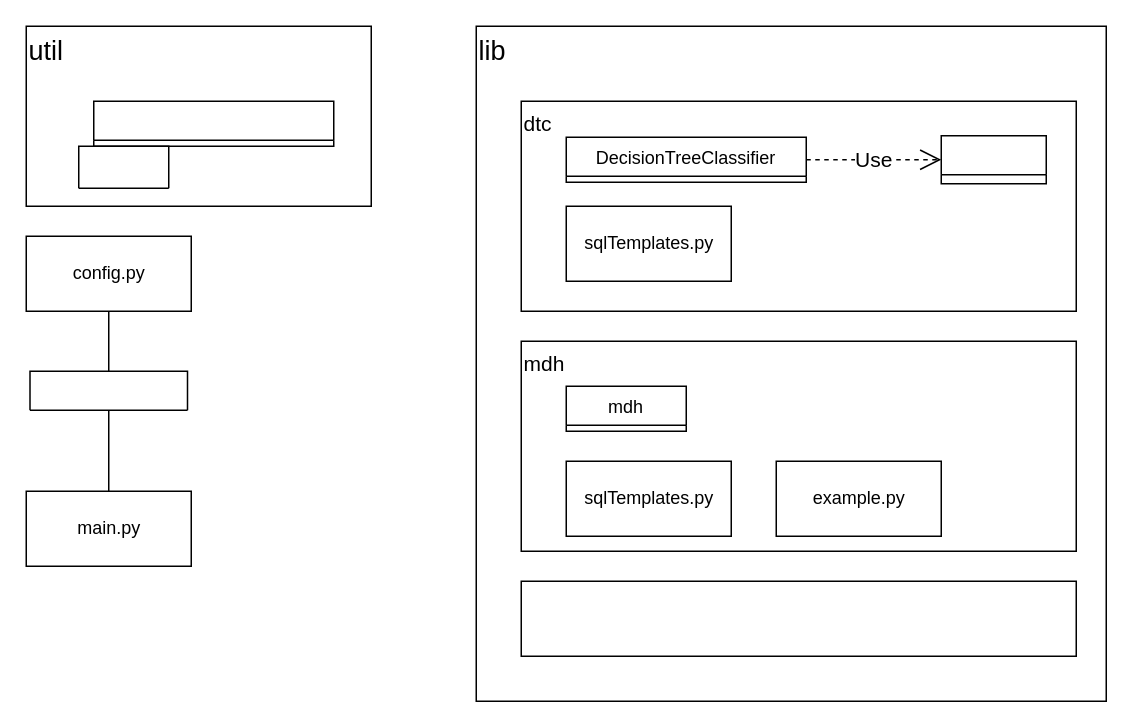
Image size: 1133x728. Some labels were removed from this diagram. The centre of each missing label's shape, as x and y in pixels:
"database_connection" goes at [213,123].
"linreg, kmeans..." goes at [798,618].
"Node" goes at [993,159].
"sanelib.py" goes at [108,390].
"timer" goes at [123,166].
